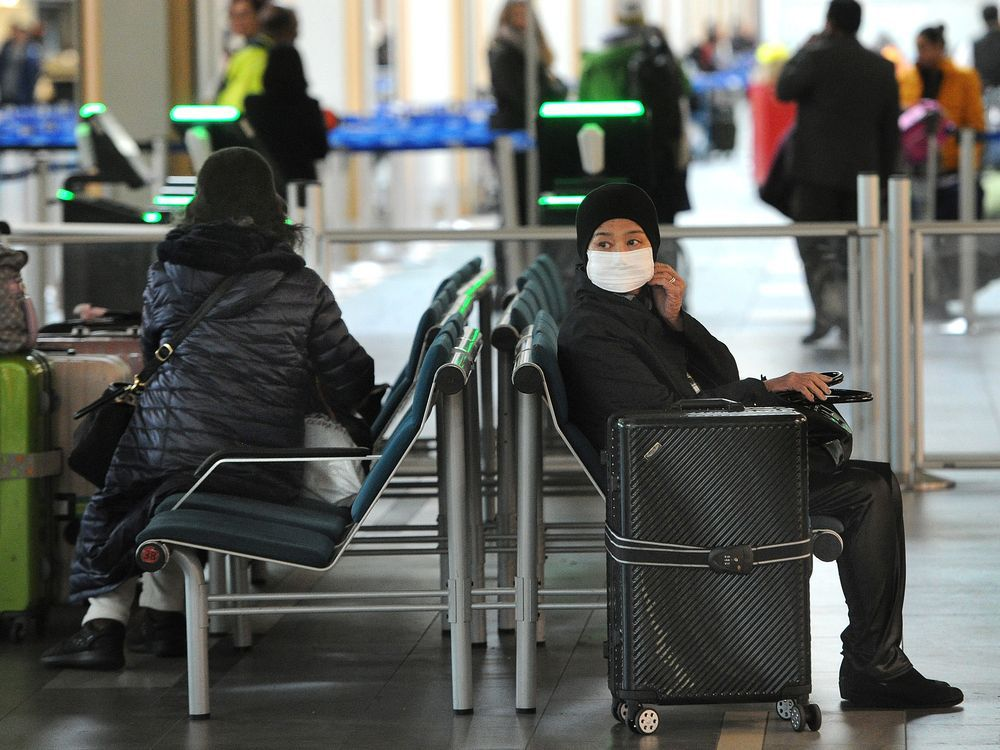with_mask: (589, 230, 651, 276)
